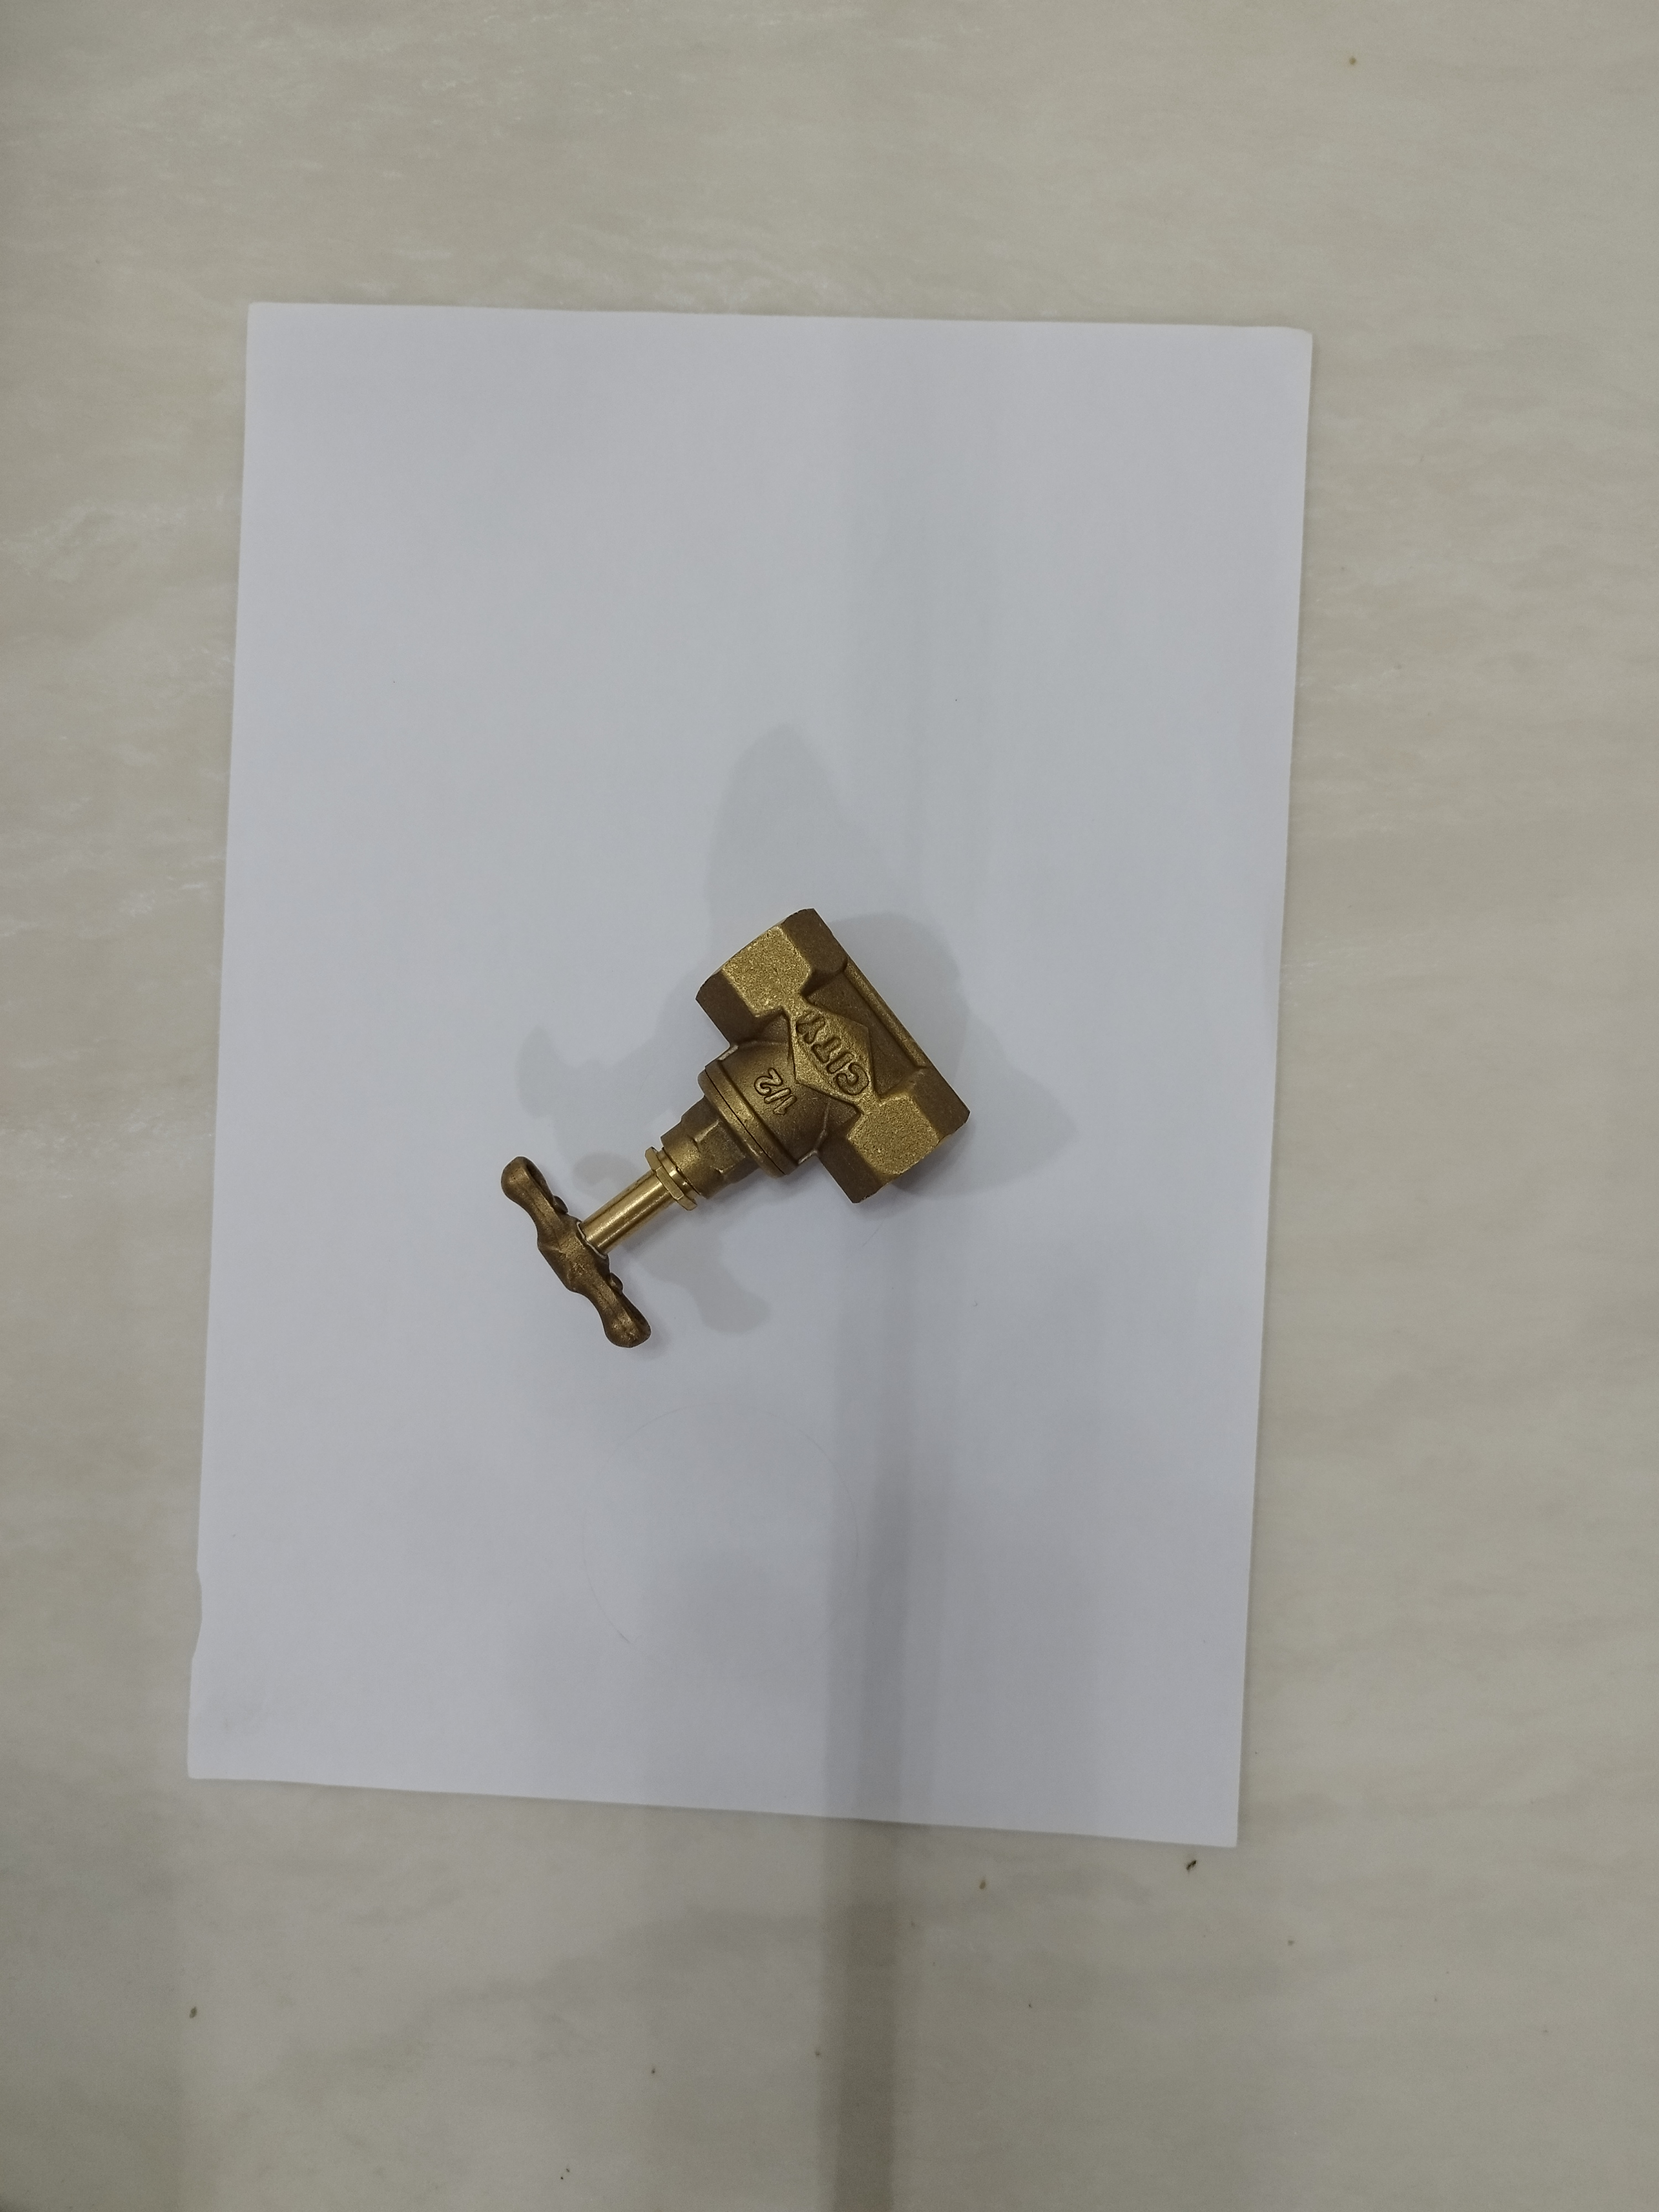brass_gate_valve: (472, 907, 971, 1355)
